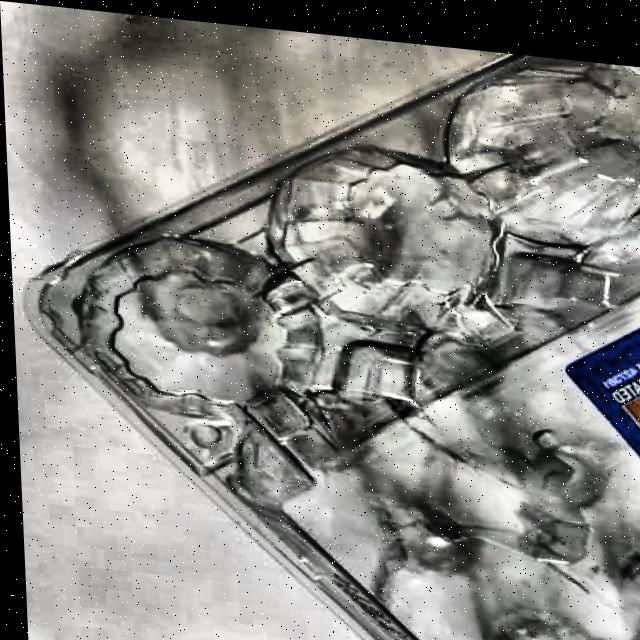plastic: (15, 2, 640, 640)
